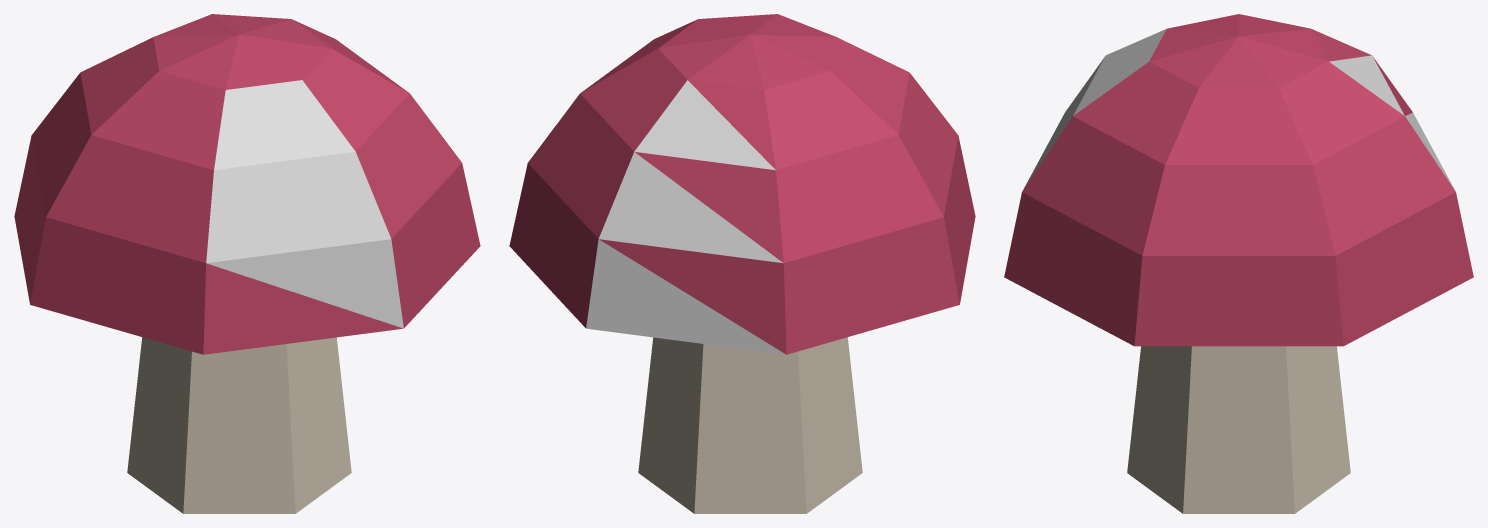
File: biome-clover-mushroom.glb
3 views of the same model, side by side, from view 1: azimuth 30°, elevation 25°; view 2: azimuth 150°, elevation 25°; view 3: azimuth 270°, elevation 25° (orthographic).
Bounding box in the file's own units: 0.5323 × 0.56 × 0.546.
